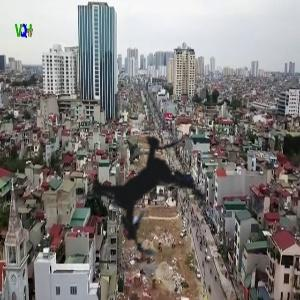drone: (37, 74, 261, 298)
